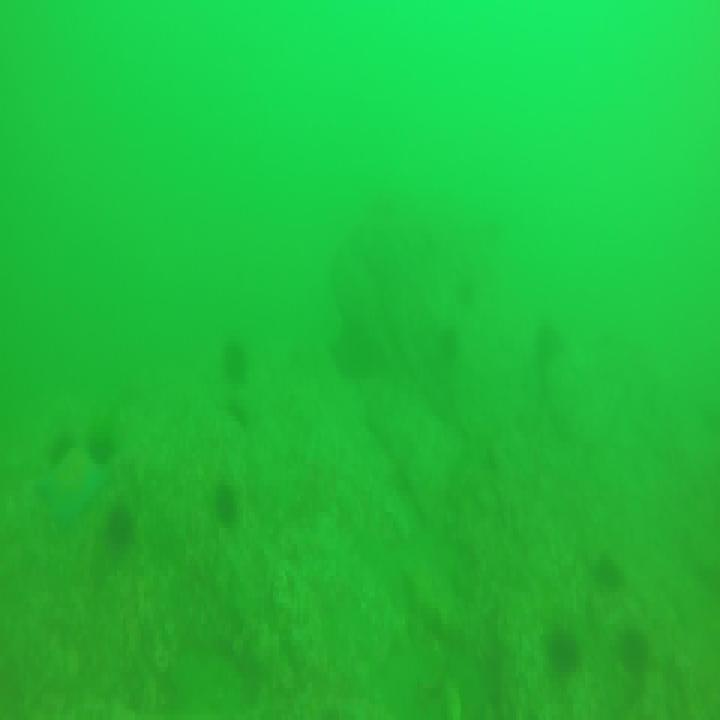echinus: (549, 621, 581, 676), (109, 500, 136, 553), (630, 626, 652, 677), (224, 338, 246, 380), (602, 556, 624, 596), (52, 430, 78, 461), (218, 489, 238, 527), (90, 432, 115, 462)
starfish: (40, 453, 100, 528)
